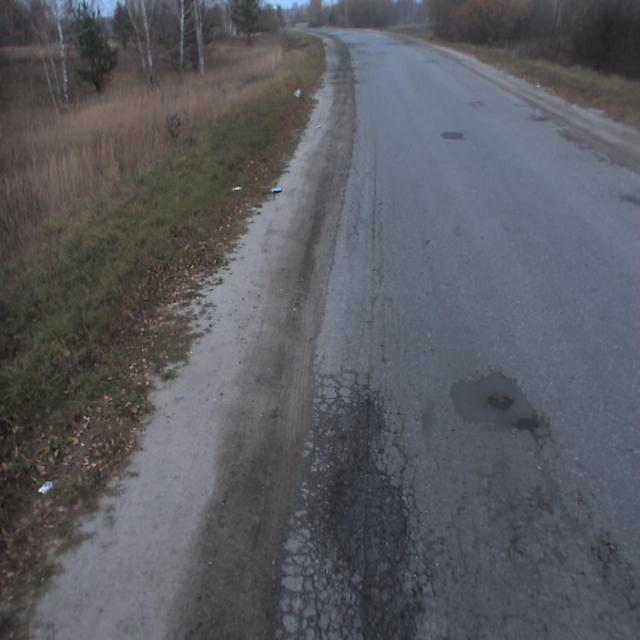road: (270, 27, 639, 639)
